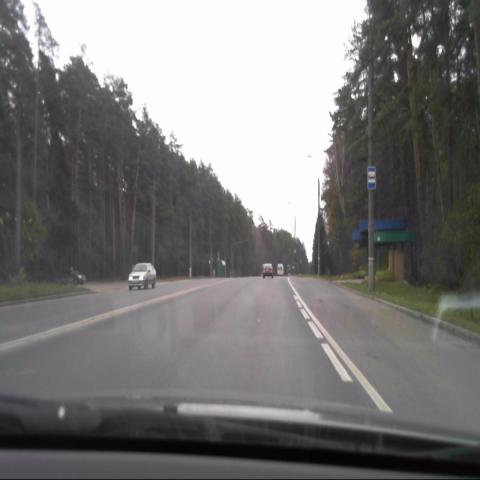5_16: (366, 166, 378, 192)
